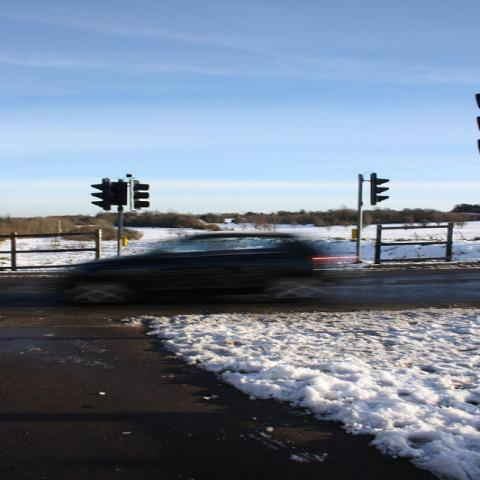car: (52, 228, 332, 308)
